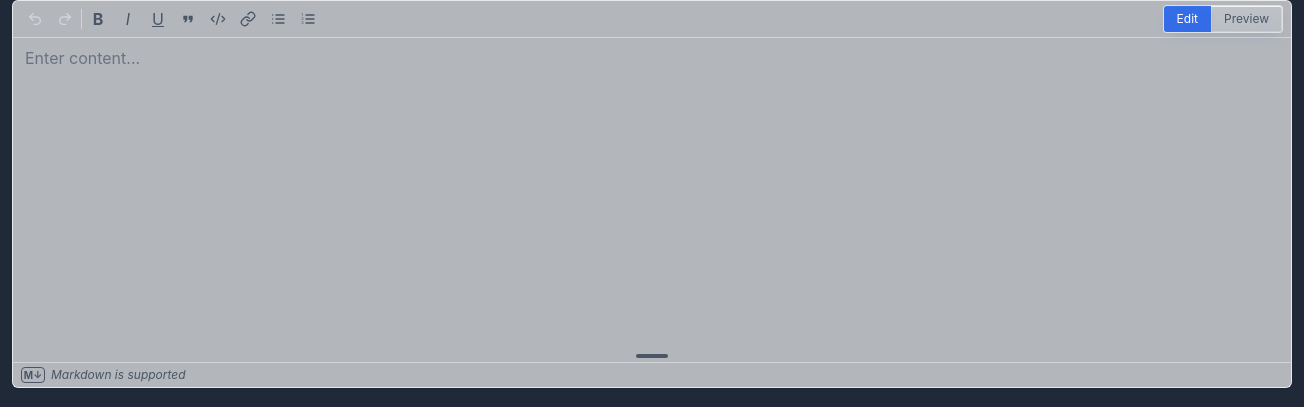
Scenario: MarkdownEditorField › shows a placeholder message in preview mode when empty
Click the button "Preview" at (1246, 19), box [1211,6,1282,32]
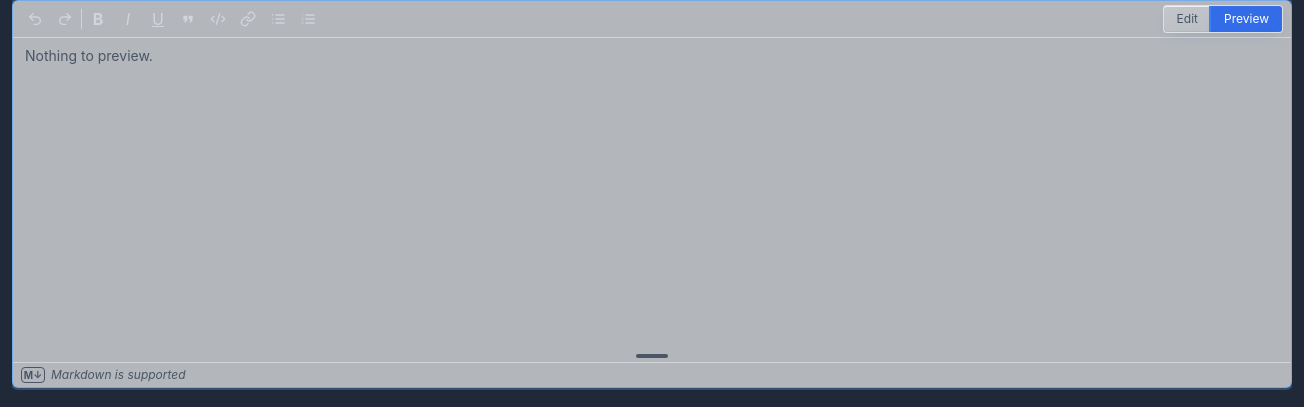
Now the text "Nothing to preview." is shown, box [25,47,153,64]
